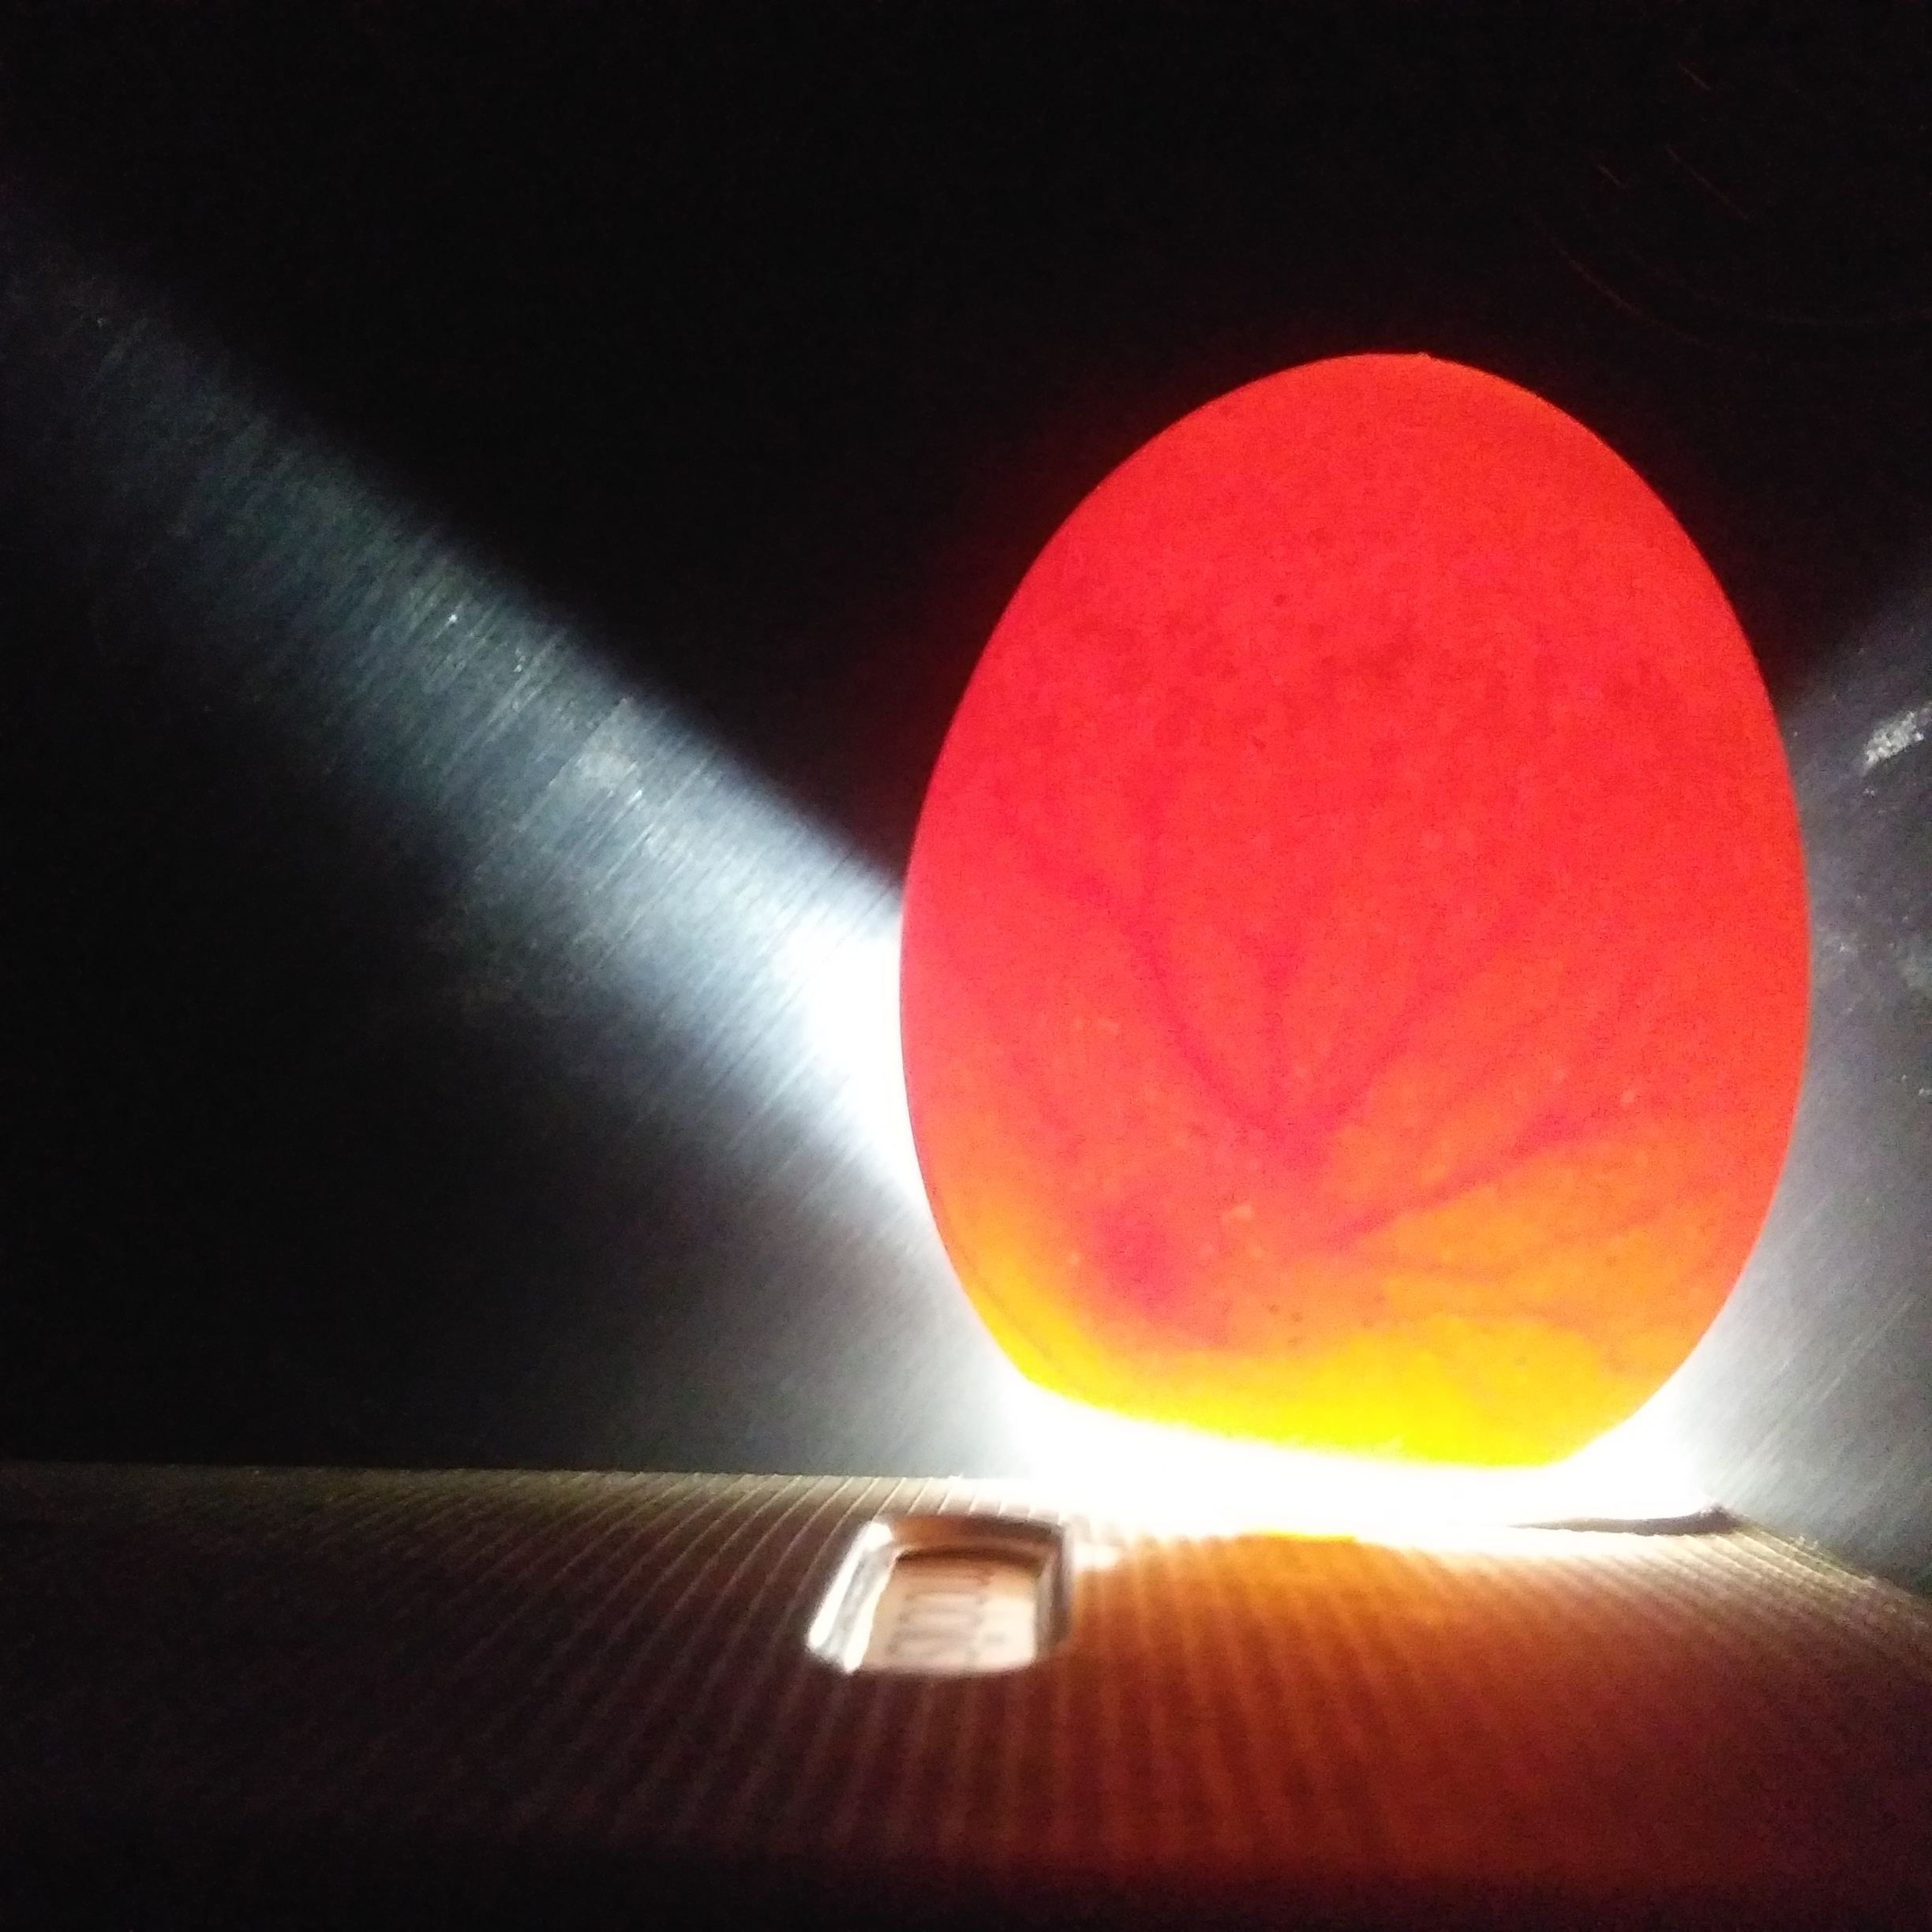bloodcell: (1146, 939, 1695, 1200)
embryo: (1106, 1251, 1366, 1338)
